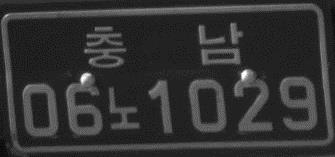0: (18, 81, 60, 138), (186, 77, 227, 134)
1: (145, 78, 176, 137)
2: (232, 76, 273, 135)
6: (63, 79, 104, 139)
9: (276, 75, 320, 133)
노: (105, 83, 139, 134)
충남_D: (81, 19, 245, 70)
